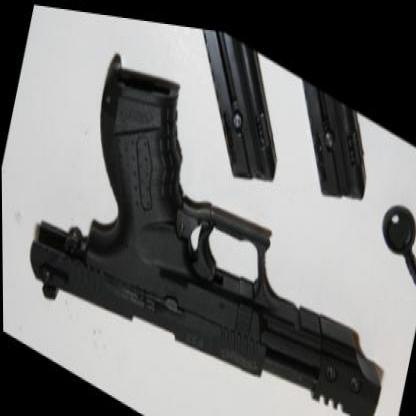pistol: (20, 11, 415, 413)
